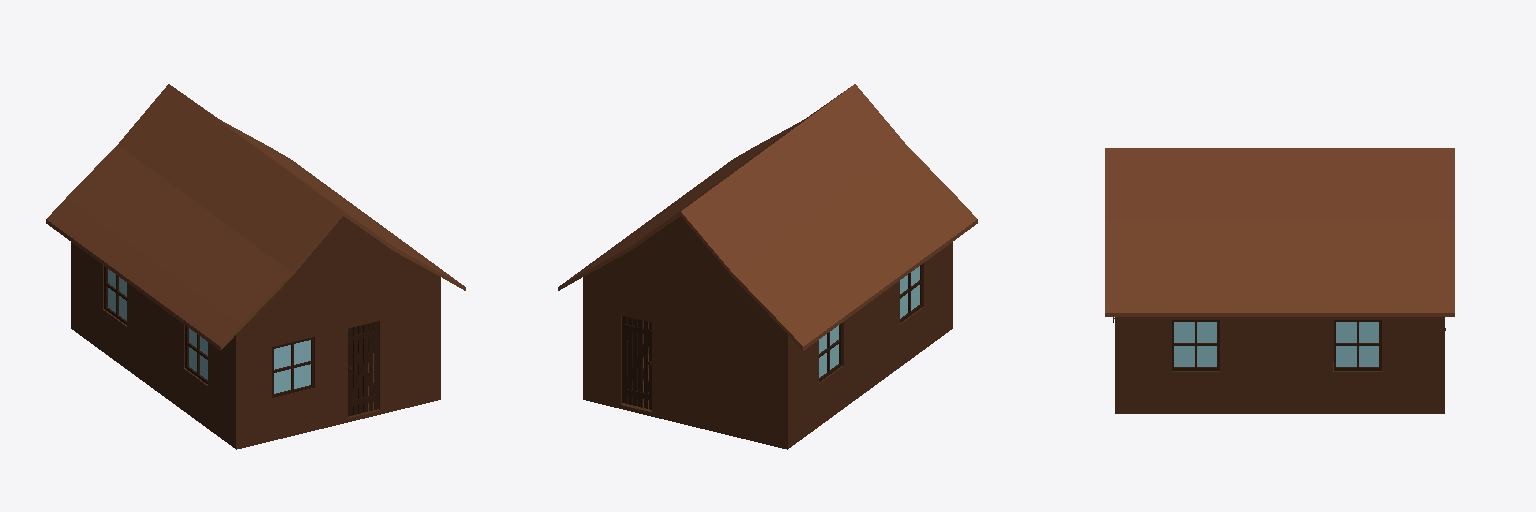
File: MedievalHouse1.obj
3 renders of one model, left to right at view 1: azimuth 30°, elevation 25°; view 2: azimuth 150°, elevation 25°; view 3: azimuth 270°, elevation 25°, orthographic.
Visible parts, largest first — view 1: MedievalHouse; view 2: MedievalHouse; view 3: MedievalHouse.
Boxes of the visible parts, x1=… form: MedievalHouse: x1=46, y1=84, x2=465, y2=449; MedievalHouse: x1=558, y1=84, x2=977, y2=449; MedievalHouse: x1=1105, y1=148, x2=1454, y2=413.
Bounding box in the file's own units: 600 × 507 × 740.